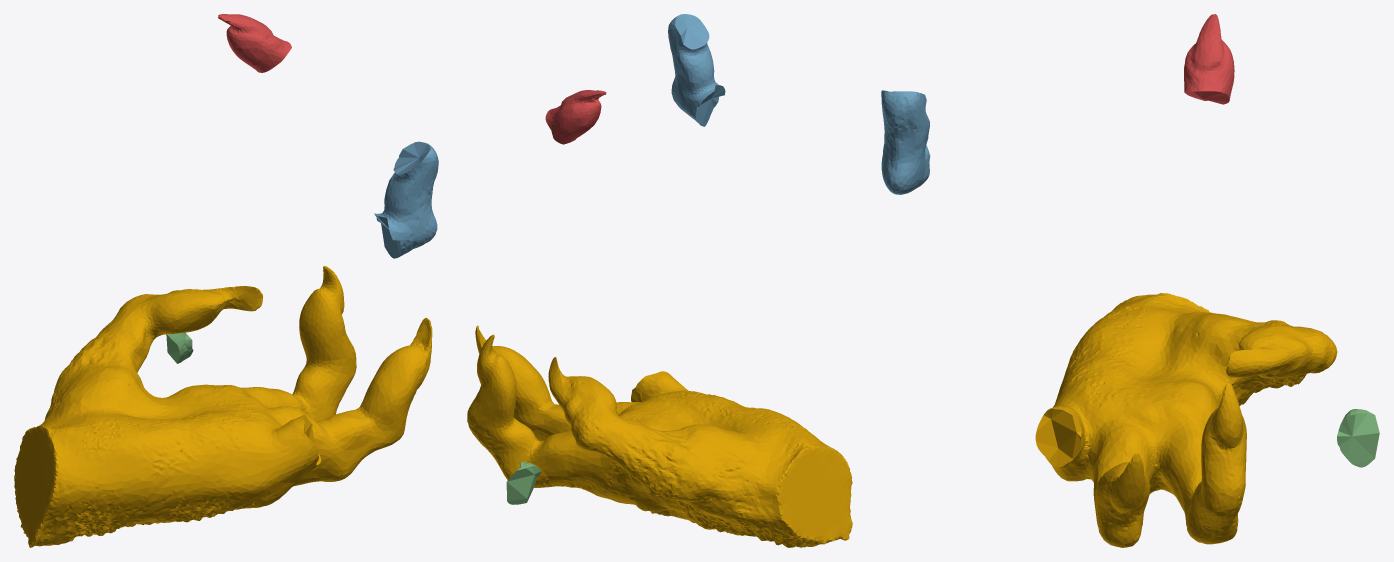
The model's file is fractured_59_4pcs_transformed.glb.
The picture shows the model from 3 angles, left to right: view 1: azimuth 30°, elevation 25°; view 2: azimuth 150°, elevation 25°; view 3: azimuth 270°, elevation 25°; orthographic projection. The views are drawn at different scales.
Parts seen in each view (by area): view 1: piece_0.obj, piece_2.obj, piece_1.obj, piece_3.obj; view 2: piece_0.obj, piece_2.obj, piece_1.obj, piece_3.obj; view 3: piece_0.obj, piece_2.obj, piece_1.obj, piece_3.obj.
Part boxes in pixels (box(x1,y1,x2,y2)): piece_0.obj: box(14, 266, 432, 547); piece_2.obj: box(374, 141, 438, 258); piece_1.obj: box(218, 14, 291, 72); piece_3.obj: box(166, 332, 193, 363); piece_0.obj: box(467, 325, 852, 547); piece_2.obj: box(668, 14, 725, 126); piece_1.obj: box(545, 90, 606, 144); piece_3.obj: box(506, 462, 541, 504); piece_0.obj: box(1035, 293, 1337, 547); piece_2.obj: box(881, 90, 930, 194); piece_1.obj: box(1184, 14, 1234, 104); piece_3.obj: box(1337, 409, 1379, 467).
Bounding box in the file's own units: 1 × 1.1 × 0.9875.
